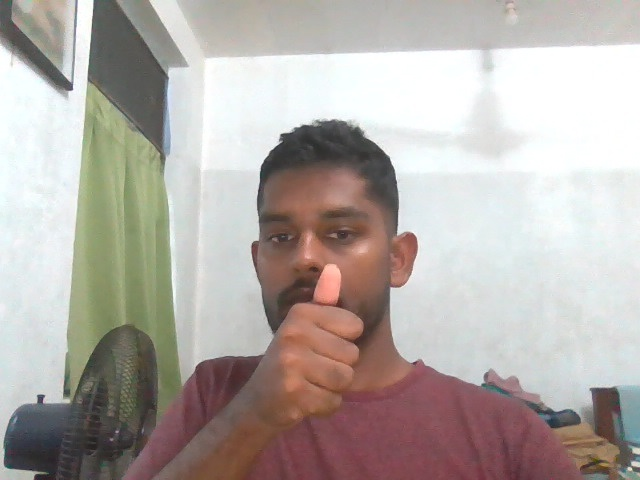good.: (240, 262, 368, 429)
